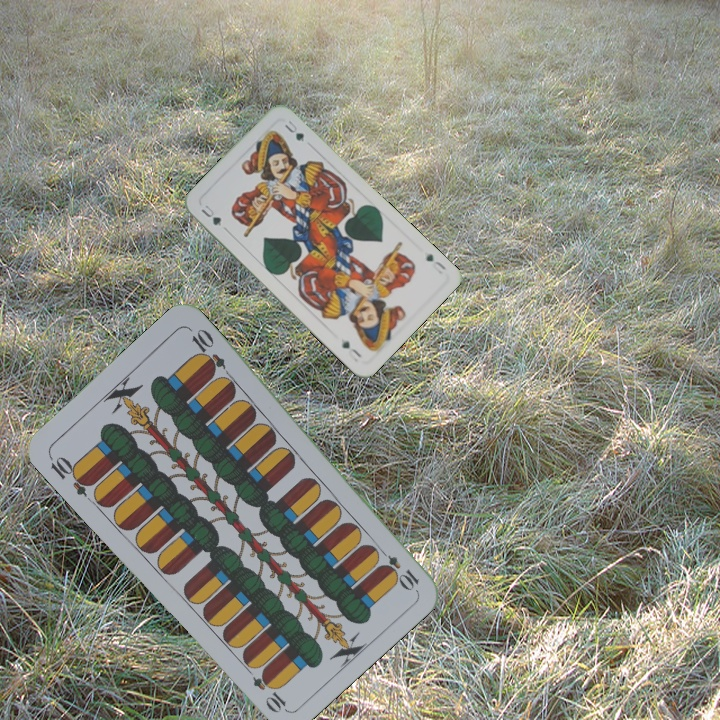E10: (45, 451, 96, 499), (373, 543, 422, 592)
GU: (197, 201, 225, 229), (422, 249, 448, 277)
